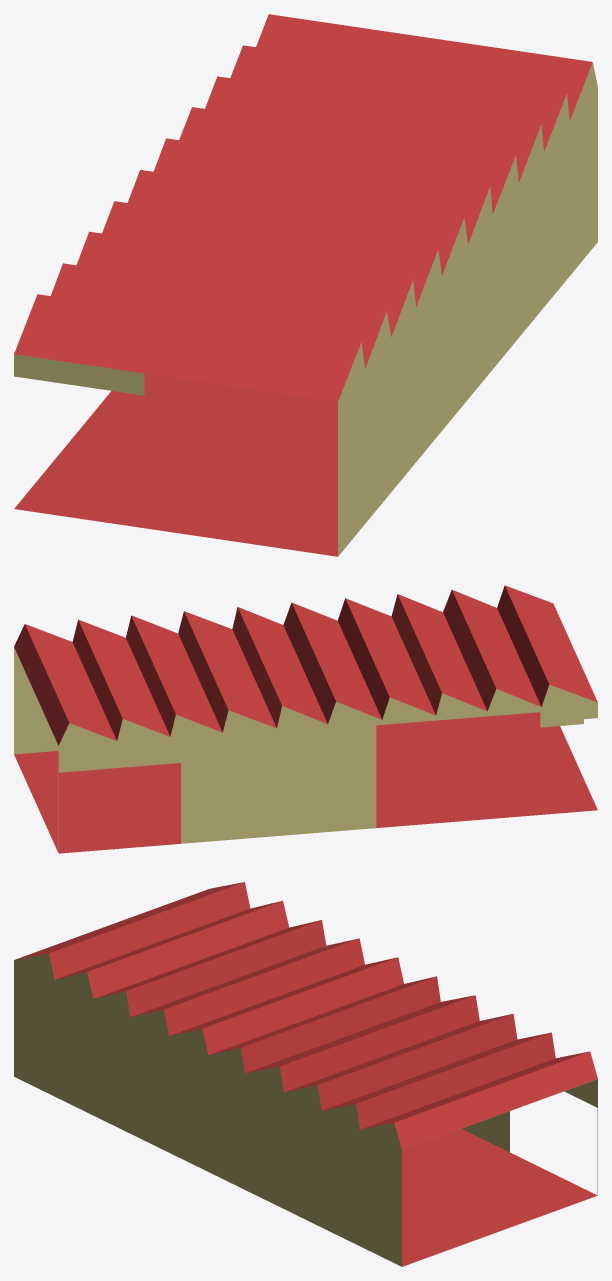
3 renders of one model, top to bottom at view 1: azimuth 30°, elevation 25°; view 2: azimuth 150°, elevation 25°; view 3: azimuth 270°, elevation 25°, orthographic. The views are drawn at different scales.
Bounding box in the file's own units: 52.75 × 49.76 × 13.21.
